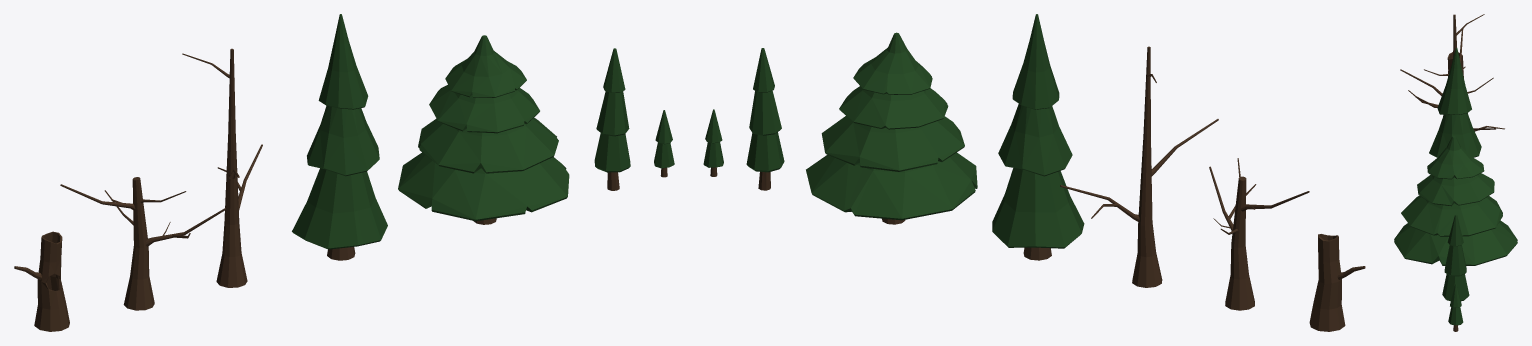
File: TreeFree.fbx
3 renders of one model, left to right at view 1: azimuth 30°, elevation 25°; view 2: azimuth 150°, elevation 25°; view 3: azimuth 270°, elevation 25°, orthographic. The views are drawn at different scales.
Visible parts, largest first — view 1: Tree_3, Tree_4, Tree_5, Tree_2, Tree_6, Tree_7, Tree_1; view 2: Tree_3, Tree_4, Tree_5, Tree_2, Tree_6, Tree_7, Tree_1; view 3: Tree_3, Tree_4, Tree_2, Tree_1, Tree_5, Tree_6, Tree_7.
Boxes of the visible parts, left/top/right/bottom form: Tree_3: left=398, top=35, right=569, bottom=224; Tree_4: left=292, top=14, right=387, bottom=260; Tree_5: left=182, top=48, right=262, bottom=287; Tree_2: left=594, top=48, right=630, bottom=190; Tree_6: left=60, top=177, right=225, bottom=310; Tree_7: left=14, top=231, right=69, bottom=331; Tree_1: left=654, top=110, right=674, bottom=177; Tree_3: left=806, top=32, right=977, bottom=224; Tree_4: left=992, top=14, right=1084, bottom=260; Tree_5: left=1060, top=46, right=1218, bottom=287; Tree_2: left=746, top=48, right=784, bottom=190; Tree_6: left=1209, top=158, right=1309, bottom=310; Tree_7: left=1309, top=234, right=1365, bottom=331; Tree_1: left=703, top=109, right=723, bottom=176; Tree_3: left=1394, top=136, right=1517, bottom=265; Tree_4: left=1429, top=48, right=1481, bottom=157; Tree_2: left=1442, top=214, right=1469, bottom=301; Tree_1: left=1448, top=284, right=1463, bottom=331; Tree_5: left=1400, top=14, right=1504, bottom=131; Tree_6: left=1408, top=29, right=1493, bottom=107; Tree_7: left=1443, top=52, right=1463, bottom=116.
Size of the model in its own units: 1626 by 566 by 372.
